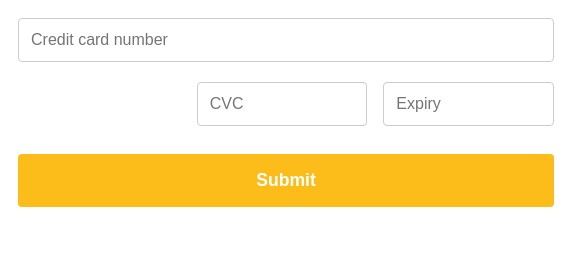
RegisterCardForm › shows validation errors when submitting empty fields
This screenshot has width=573, height=278.
Click the button "Submit".
click(286, 180)  # box x1=18 y1=154 x2=554 y2=207
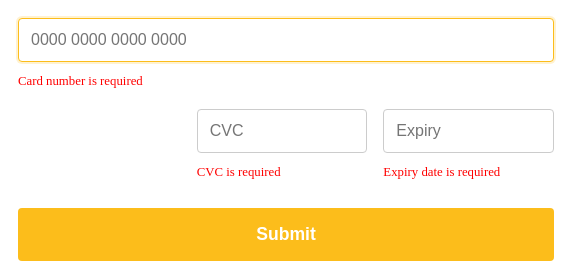
Expected: the text "Card number is required" is shown, x1=18 y1=74 x2=143 y2=88
